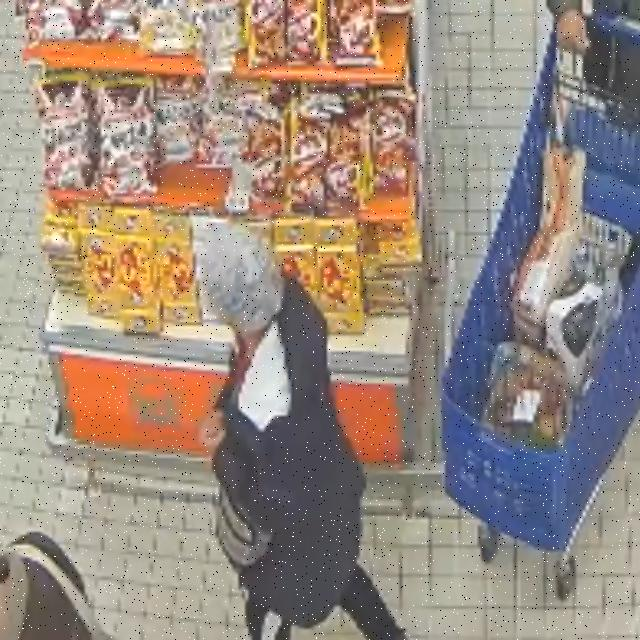bags: (0, 544, 113, 639), (216, 489, 271, 568)
hands: (557, 10, 589, 53), (199, 410, 225, 456)
person: (200, 225, 405, 639), (0, 533, 111, 639), (548, 0, 639, 107)
